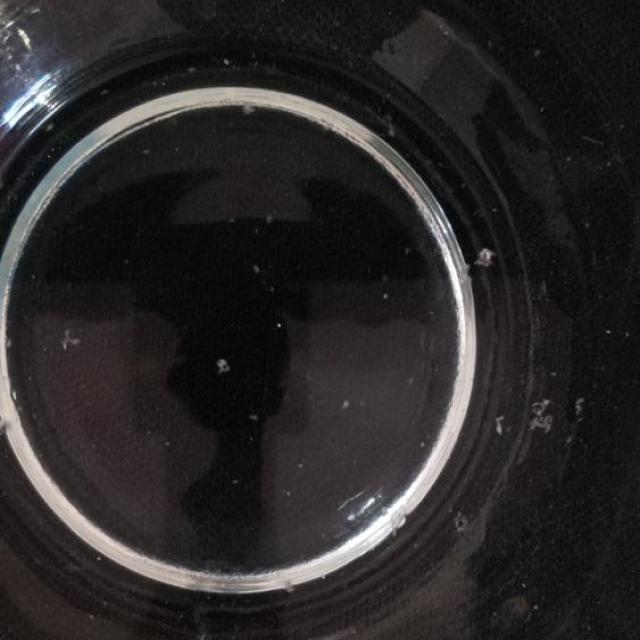fiber: (518, 390, 558, 441), (445, 498, 474, 544), (486, 403, 520, 442), (53, 326, 81, 352), (472, 238, 493, 272), (571, 386, 590, 418), (382, 112, 404, 138), (212, 349, 230, 374), (214, 52, 236, 72), (338, 392, 358, 414), (0, 411, 13, 440), (240, 99, 260, 116)
